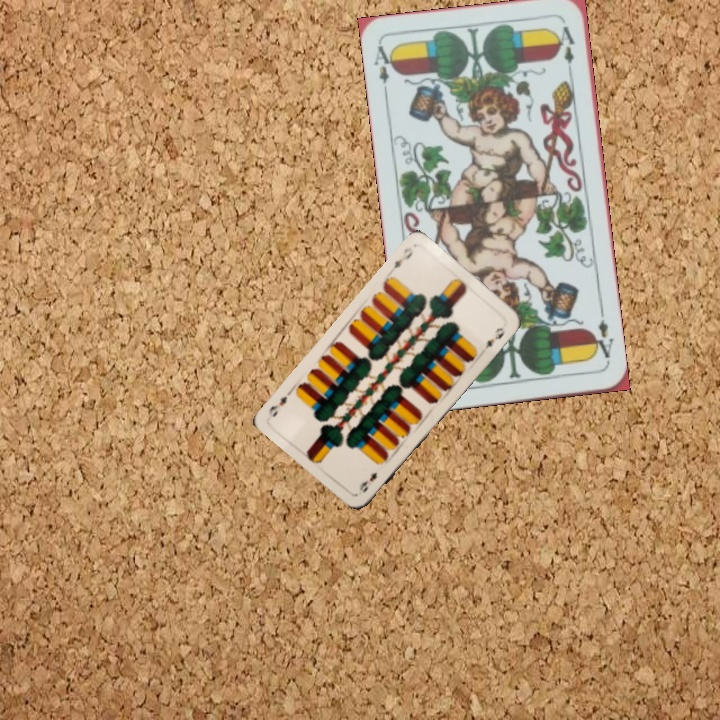E9: (390, 243, 416, 271), (355, 468, 380, 496)
EA: (369, 41, 398, 99), (588, 316, 616, 366)
